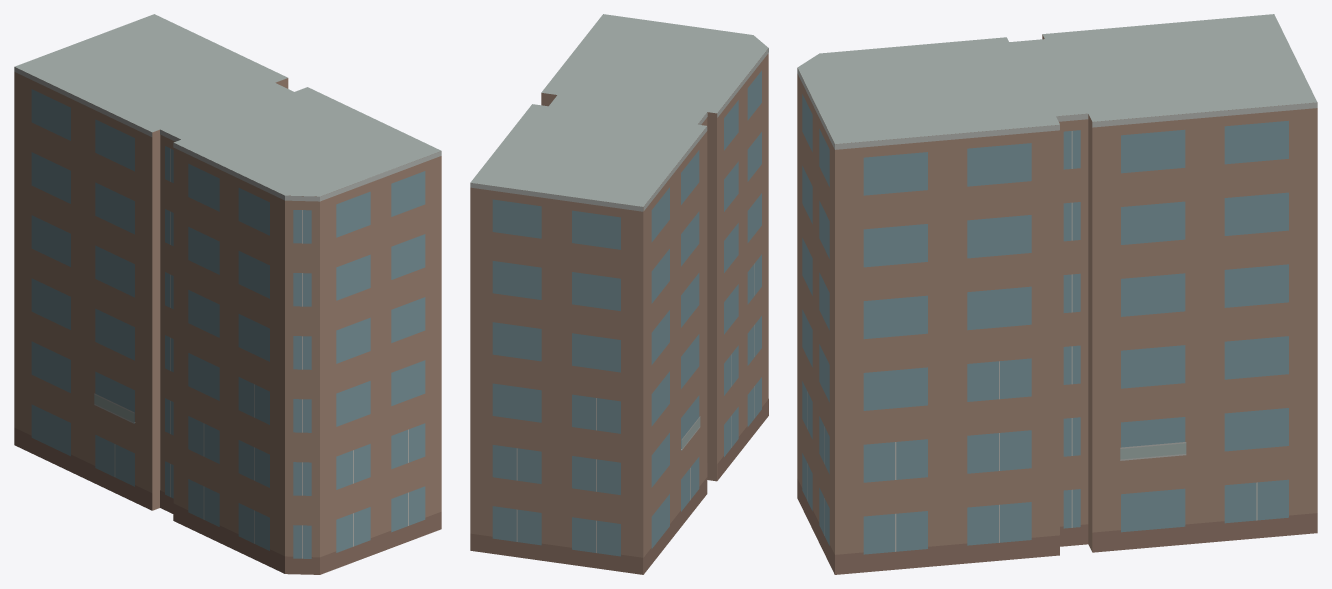
Rendered from survey-upis-33044104.glb.
3 views of the same model, side by side, from view 1: azimuth 30°, elevation 25°; view 2: azimuth 150°, elevation 25°; view 3: azimuth 270°, elevation 25° (orthographic). The views are drawn at different scales.
Visible parts, largest first — view 1: survey-upis-33044104.tmp; view 2: survey-upis-33044104.tmp; view 3: survey-upis-33044104.tmp.
Part boxes in pixels (left/top/right/bottom): survey-upis-33044104.tmp: left=14, top=14, right=441, bottom=574; survey-upis-33044104.tmp: left=470, top=14, right=768, bottom=574; survey-upis-33044104.tmp: left=797, top=14, right=1317, bottom=574.
Size of the model in its own units: 12 by 18.5 by 20.26.
